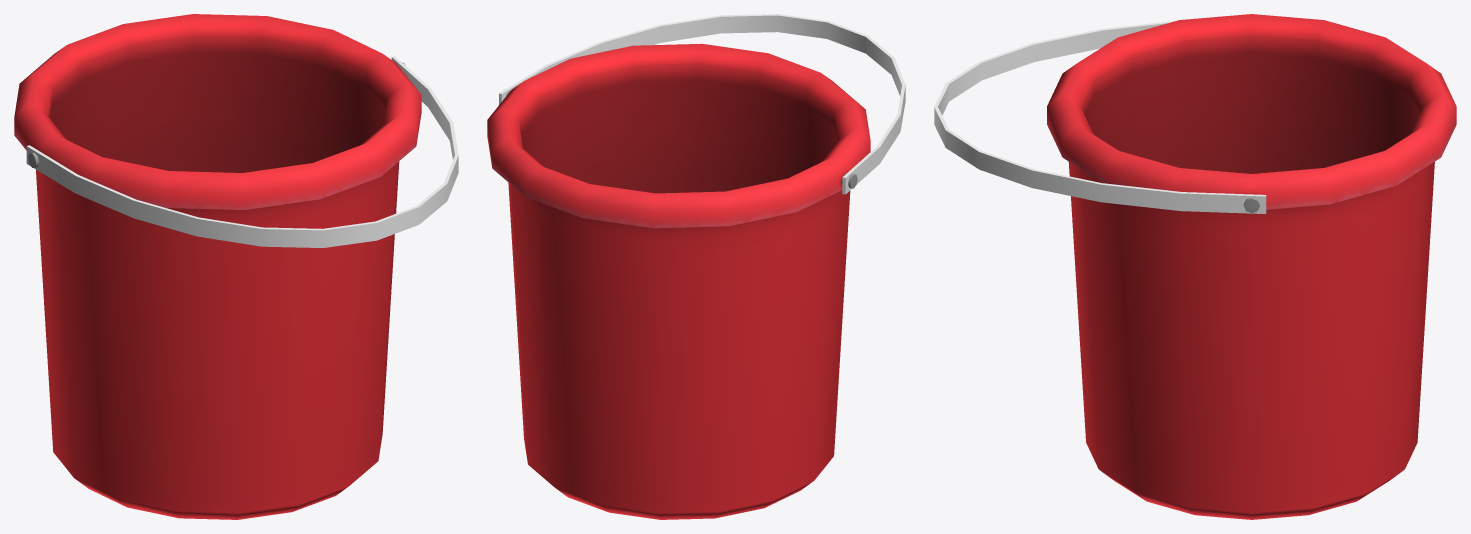
File: plastic_bucket.fbx
The picture shows the model from 3 angles, left to right: view 1: azimuth 30°, elevation 25°; view 2: azimuth 150°, elevation 25°; view 3: azimuth 270°, elevation 25°; orthographic projection. The views are drawn at different scales.
Visible parts, largest first — view 1: plastic_bucket_mesh, plastic_bucket_handle_mesh; view 2: plastic_bucket_mesh, plastic_bucket_handle_mesh; view 3: plastic_bucket_mesh, plastic_bucket_handle_mesh.
Part boxes in pixels (x1,y1,x2,y2): plastic_bucket_mesh: [14, 14, 421, 519]; plastic_bucket_handle_mesh: [26, 56, 458, 247]; plastic_bucket_mesh: [487, 43, 870, 519]; plastic_bucket_handle_mesh: [499, 14, 905, 194]; plastic_bucket_mesh: [1047, 14, 1456, 519]; plastic_bucket_handle_mesh: [934, 20, 1266, 213].
Bounding box in the file's own units: 0.4041 × 0.3784 × 0.4933.
